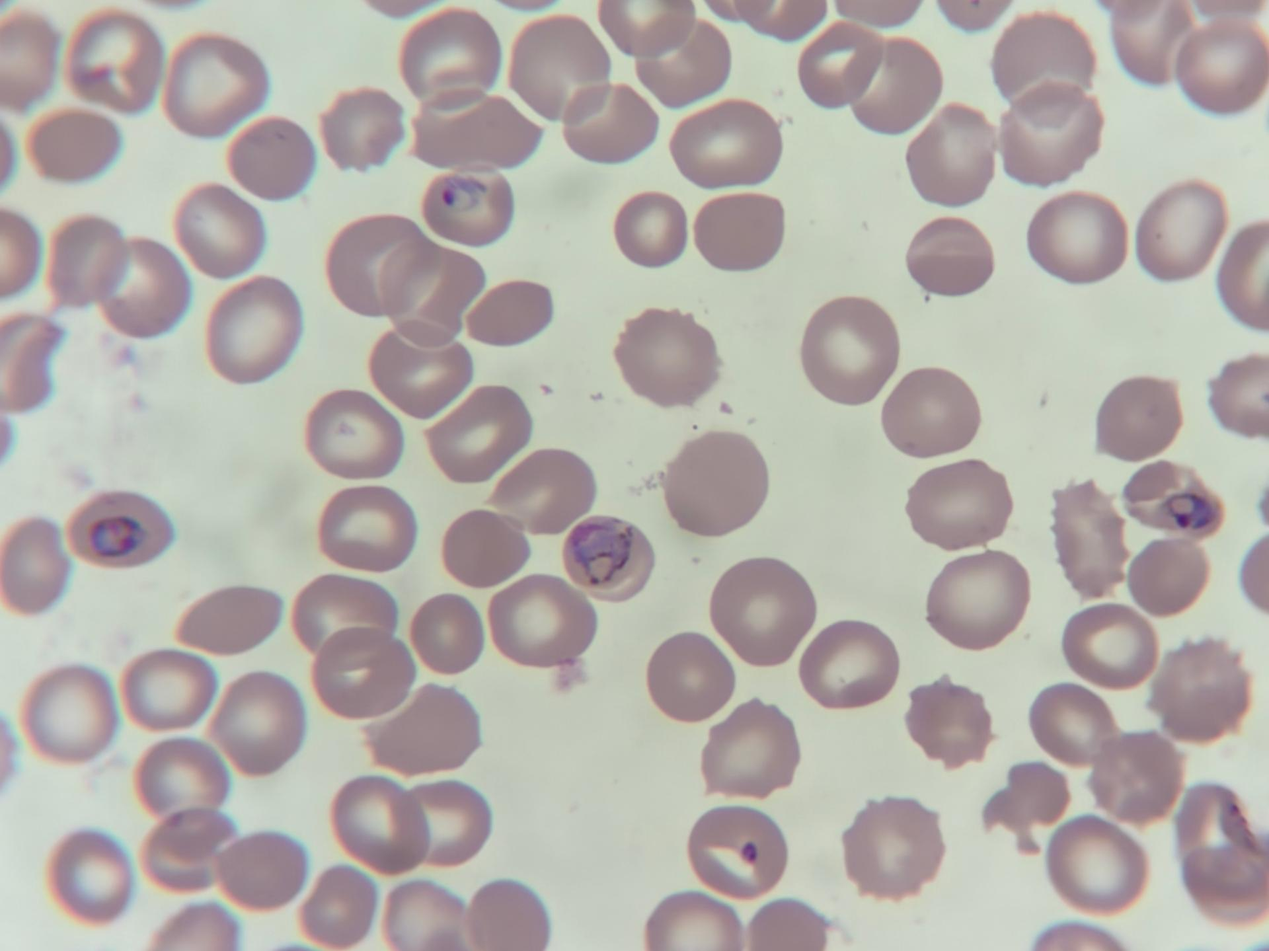Infected: (65, 489, 173, 570), (1122, 459, 1222, 539), (421, 166, 515, 248), (561, 514, 651, 599)
Uninfected: (1173, 782, 1267, 915), (710, 556, 815, 664), (661, 431, 769, 536), (364, 681, 482, 777), (411, 90, 544, 173), (999, 83, 1104, 188), (374, 239, 475, 347), (424, 383, 533, 483), (325, 214, 428, 318), (163, 31, 268, 133), (1147, 636, 1250, 739), (508, 15, 610, 117), (839, 798, 941, 900), (612, 306, 717, 405), (802, 296, 897, 405), (670, 98, 781, 190), (206, 671, 305, 774), (205, 276, 302, 381), (902, 459, 1012, 551), (66, 10, 165, 112), (488, 574, 595, 668), (925, 552, 1029, 648), (329, 776, 428, 876), (1045, 816, 1147, 913), (397, 9, 502, 102), (700, 698, 798, 797), (485, 447, 594, 535), (311, 627, 416, 718), (1135, 180, 1229, 281), (687, 805, 787, 899), (905, 102, 997, 204), (1050, 480, 1130, 597), (22, 665, 118, 762), (1172, 18, 1269, 114), (98, 239, 192, 338), (1026, 192, 1126, 284), (992, 13, 1094, 103), (369, 329, 471, 419), (174, 183, 270, 277), (846, 38, 938, 136), (881, 368, 981, 457), (1087, 727, 1182, 820), (305, 389, 403, 478), (290, 572, 395, 655), (635, 17, 731, 107), (798, 621, 896, 709), (315, 484, 414, 571), (119, 648, 217, 734), (1061, 603, 1157, 690), (560, 81, 658, 165), (134, 734, 230, 819), (141, 806, 237, 891), (210, 830, 309, 912), (173, 585, 284, 658), (904, 677, 995, 765), (798, 21, 887, 110), (46, 830, 133, 921), (223, 114, 315, 200), (46, 214, 130, 307), (646, 633, 733, 722), (981, 761, 1068, 850), (1095, 377, 1184, 463), (692, 196, 789, 274), (25, 106, 122, 184), (905, 216, 996, 297), (407, 780, 491, 867), (1126, 537, 1211, 621), (319, 87, 404, 171), (1030, 683, 1115, 766), (1109, 1, 1194, 83), (442, 509, 528, 590), (1, 517, 71, 613), (298, 866, 379, 948), (409, 591, 488, 675), (465, 279, 553, 348), (382, 879, 466, 951), (463, 880, 549, 950), (1, 11, 60, 110), (613, 191, 687, 266), (644, 891, 737, 950), (746, 898, 831, 950)
